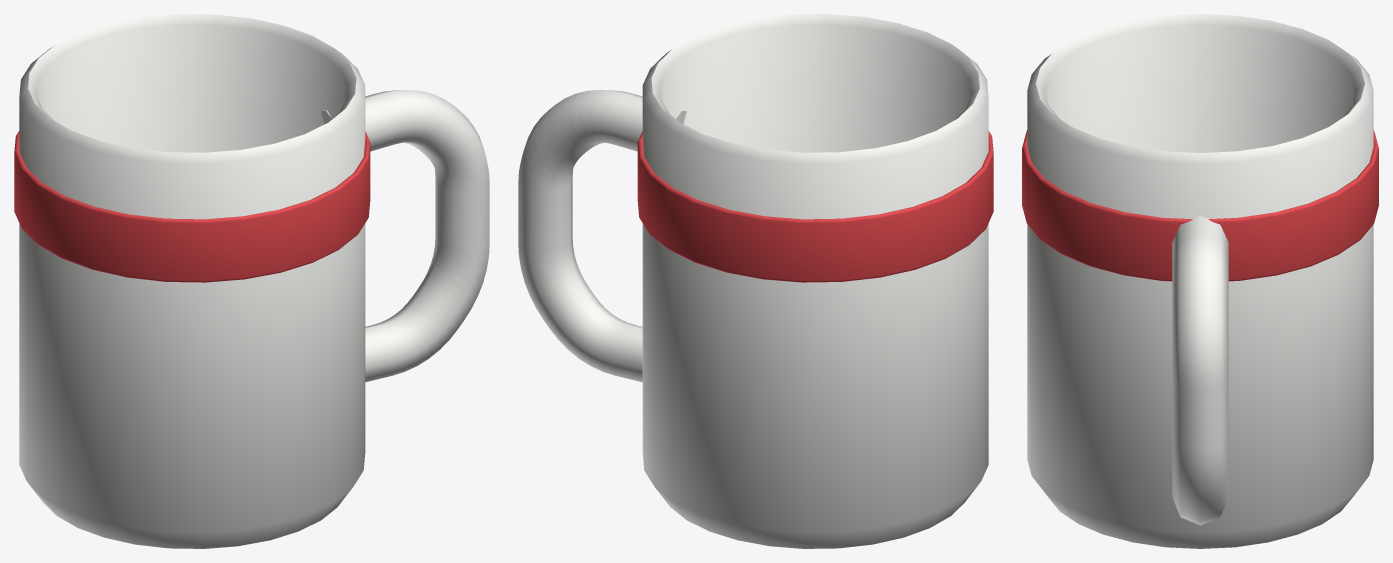
The model's file is caneca_branca.glb.
The picture shows the model from 3 angles, left to right: view 1: azimuth 30°, elevation 25°; view 2: azimuth 150°, elevation 25°; view 3: azimuth 270°, elevation 25°; orthographic projection.
Visible parts, largest first — view 1: caneca_branca; view 2: caneca_branca; view 3: caneca_branca.
Boxes of the visible parts, x1,y1,x2,y2 form: caneca_branca: [14, 14, 489, 548]; caneca_branca: [518, 14, 993, 548]; caneca_branca: [1022, 14, 1378, 548].
Bounding box in the file's own units: 0.1197 × 0.1018 × 0.0824.
Materials: 1 (1 with a texture image).
